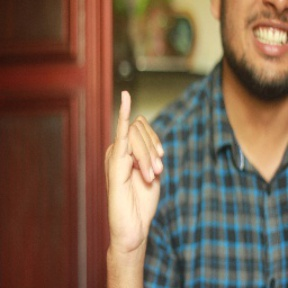I: (103, 90, 167, 243)
